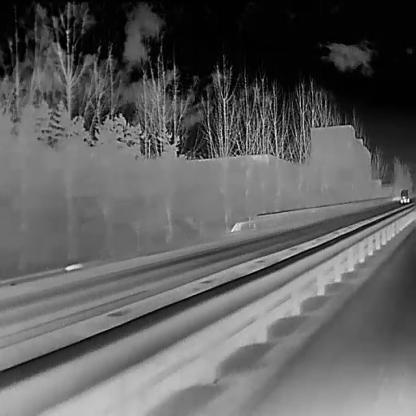car: (399, 188, 410, 203)
